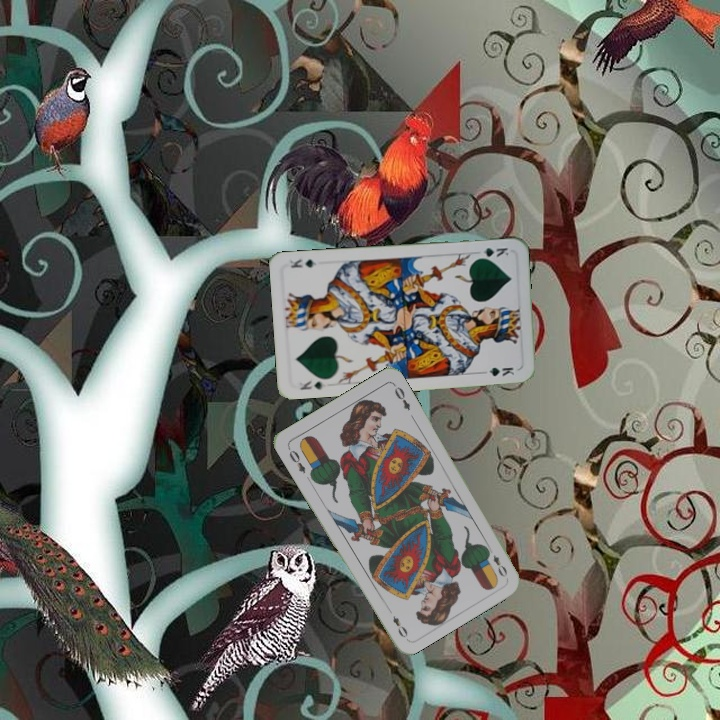EO: (483, 543, 510, 580), (284, 443, 308, 476)
GK: (472, 243, 511, 261), (296, 377, 328, 392)
